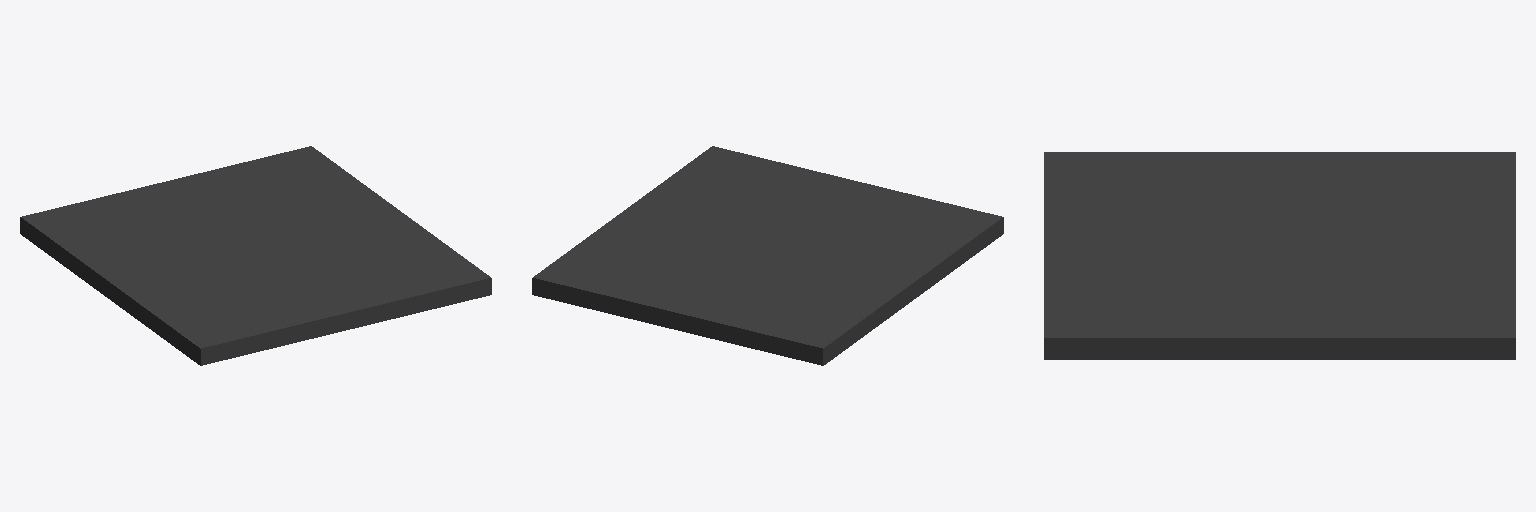
robot.urdf — lwr:
<?xml version="1.0" ?>
<!-- =================================================================================== -->
<!-- |    This document was autogenerated by xacro from kuka_lwr_arm.urdf.xml          | -->
<!-- |    EDITING THIS FILE BY HAND IS NOT RECOMMENDED                                 | -->
<!-- =================================================================================== -->
<robot name="lwr" xmlns:controller="http://playerstage.sourceforge.net/gazebo/xmlschema/#controller" xmlns:interface="http://playerstage.sourceforge.net/gazebo/xmlschema/#interface" xmlns:sensor="http://playerstage.sourceforge.net/gazebo/xmlschema/#sensor" xmlns:xacro="http://playerstage.sourceforge.net/gazebo/xmlschema/#interface">
  <gazebo>
    <plugin filename="librtt_gazebo_plugin.so" name="rtt_gazebo">
      <opsScript>
        import(&quot;rtt_ros&quot;);
        ros.import(&quot;rtt_roscomm&quot;);
        ros.import(&quot;rtt_rosparam&quot;);
        ros.import(&quot;rtt_sensor_msgs&quot;);
        ros.import(&quot;lwr_simulation&quot;);
        ros.import(&quot;oro_joint_state_publisher&quot;);
        
        loadComponent(&quot;FRI&quot;,&quot;LWRController&quot;);
        loadComponent(&quot;joints&quot;,&quot;JointStatePublisher&quot;);
        
        loadService(&quot;FRI&quot;,&quot;rosparam&quot;);
        loadService(&quot;joints&quot;,&quot;rosparam&quot;);
        
        setActivity(&quot;FRI&quot;, 0.0, 5, ORO_SCHED_RT);
        setActivity(&quot;joints&quot;, 0.02, 5, ORO_SCHED_RT);
        
        connect(&quot;FRI.JointPosition&quot;,&quot;joints.msrJntPos&quot;, ConnPolicy());
        stream(&quot;joints.joints_state&quot;, rostopic.connection(&quot;/joints_state&quot;));
        
        joints.rosparam.refreshProperties();
        joints.configure();
        joints.start();
      </opsScript>
      <component>FRI</component>
    </plugin>
  </gazebo>
  <material name="DarkGrey">
    <color rgba="0.3 0.3 0.3 1.0"/>
  </material>
  <material name="Red">
    <color rgba="0.3 0.3 0.3 1.0"/>
  </material>
  <material name="Black">
    <color rgba="0 0 0 1.0"/>
  </material>
  <material name="Orange">
    <color rgba="1.0 0.487 0 1.0"/>
  </material>
  <material name="Silver">
    <color rgba="1.0 1.0 1.0 1.0"/>
  </material>
  <material name="Grey">
    <color rgba="0.7 0.7 0.7 1.0"/>
  </material>
  <material name="Blue">
    <color rgba="0.0 0.0 0.8 1.0"/>
  </material>
  <material name="HandGray">
    <color rgba="0.953 0.996 0.694 1.0"/>
  </material>
  <material name="SickBlue">
    <color rgba="0.3058 0.5921 0.7294 1.0"/>
  </material>
  <link name="world_frame">
    <visual>
      <origin rpy="0 0 0" xyz="0 0 -0.02"/>
      <geometry>
        <box size="0.7 0.75 0.04"/>
      </geometry>
      <material name="DarkGrey"/>
    </visual>
    <collision>
      <origin rpy="0 0 0" xyz="0 0 -0.02"/>
      <geometry>
        <box size="0.7 0.75 0.04"/>
      </geometry>
    </collision>
  </link>
  <joint name="world_frame_lwr_arm_base_joint" type="fixed">
    <origin rpy="0 0 0" xyz="0 0 0"/>
    <parent link="world_frame"/>
    <child link="base"/>
  </joint>
  <link name="base">
    <inertial>
      <mass value="2.0"/>
      <origin xyz="0 0 0.055"/>
      <inertia ixx="0.00381666666667" ixy="0" ixz="0" iyy="0.0036" iyz="0" izz="0.00381666666667"/>
    </inertial>
    <visual>
      <origin rpy="0 0 3.14159265359" xyz="0 0 0"/>
      <geometry>
        <mesh filename="package://lwr_defs/meshes/lwr/base.stl"/>
      </geometry>
      <material name="Blue"/>
    </visual>
    <collision>
      <origin rpy="0 0 3.14159265359" xyz="0 0 0.055"/>
      <geometry>
        <mesh filename="package://lwr_defs/meshes/lwr/convex/arm_base_convex.stl"/>
      </geometry>
    </collision>
  </link>
  <gazebo reference="calib_lwr_arm_base_link">
    <turnGravityOff>true</turnGravityOff>
  </gazebo>
  <joint name="lwr_arm_0_joint" type="revolute">
    <origin rpy="0 0 3.14159265359" xyz="0 0 0.11"/>
    <axis xyz="0 0 1"/>
    <limit effort="204" lower="-2.96705972839" upper="2.96705972839" velocity="1.91986217719"/>
    <safety_controller k_position="30" k_velocity="30" soft_lower_limit="-2.93215314335" soft_upper_limit="2.93215314335"/>
    <dynamics damping="1.0"/>
    <parent link="base"/>
    <child link="lwr_arm_1_link"/>
  </joint>
  <link name="lwr_arm_1_link">
    <inertial>
      <mass value="2.0"/>
      <origin rpy="0 0 0" xyz="0 -0.06 0.130"/>
      <inertia ixx="0.0136666666667" ixy="0" ixz="0" iyy="0.003" iyz="0" izz="0.0118666666667"/>
    </inertial>
    <visual>
      <origin rpy="0 0 0" xyz="0 0 -0.008"/>
      <geometry>
        <mesh filename="package://lwr_defs/meshes/lwr/link_1.stl"/>
      </geometry>
      <material name="Blue"/>
    </visual>
    <collision>
      <origin rpy="0 0 0" xyz="0 0 0"/>
      <geometry>
        <mesh filename="package://lwr_defs/meshes/lwr/convex/arm_segment_a_convex.stl"/>
      </geometry>
    </collision>
  </link>
  <gazebo reference="lwr_arm_1_link">
    <gravity>0</gravity>
  </gazebo>
  <transmission name="lwr_arm_0_trans" type="SimpleTransmission">
    <actuator name="lwr_arm_0_motor"/>
    <joint name="lwr_arm_0_joint"/>
    <mechanicalReduction>1.0</mechanicalReduction>
  </transmission>
  <!-- Third segment of the arm. Joint along y-axis -->
  <joint name="lwr_arm_1_joint" type="revolute">
    <origin rpy="0 0 0" xyz="0 0 0.2"/>
    <axis xyz="0 1 0"/>
    <limit effort="306" lower="-2.09439510239" upper="2.09439510239" velocity="1.91986217719"/>
    <safety_controller k_position="30" k_velocity="30" soft_lower_limit="-2.05948851735" soft_upper_limit="2.05948851735"/>
    <dynamics damping="1.0" friction="10"/>
    <parent link="lwr_arm_1_link"/>
    <child link="lwr_arm_2_link"/>
  </joint>
  <link name="lwr_arm_2_link">
    <inertial>
      <mass value="2.0"/>
      <origin rpy="0 0 0" xyz="0 0.06 0.07"/>
      <inertia ixx="0.0136666666667" ixy="0" ixz="0" iyy="0.003" iyz="0" izz="0.0118666666667"/>
    </inertial>
    <visual>
      <origin rpy="0 0 0" xyz="0 0 0.0"/>
      <geometry>
        <mesh filename="package://lwr_defs/meshes/lwr/link_2.stl"/>
      </geometry>
      <material name="Blue"/>
    </visual>
    <collision>
      <origin rpy="3.14159265359 0 0" xyz="0 0 0.2"/>
      <geometry>
        <mesh filename="package://lwr_defs/meshes/lwr/convex/arm_segment_b_convex.stl"/>
      </geometry>
    </collision>
  </link>
  <gazebo reference="lwr_arm_2_link">
    <gravity>0</gravity>
  </gazebo>
  <transmission name="lwr_arm_1_trans" type="SimpleTransmission">
    <actuator name="lwr_arm_1_motor"/>
    <joint name="lwr_arm_1_joint"/>
    <mechanicalReduction>1.0</mechanicalReduction>
  </transmission>
  <joint name="lwr_arm_2_joint" type="revolute">
    <origin rpy="0 0 0" xyz="0 0 0.20"/>
    <axis xyz="0 0 1"/>
    <limit effort="204" lower="-2.96705972839" upper="2.96705972839" velocity="2.26892802759"/>
    <safety_controller k_position="30" k_velocity="30" soft_lower_limit="-2.93215314335" soft_upper_limit="2.93215314335"/>
    <dynamics damping="1.0"/>
    <parent link="lwr_arm_2_link"/>
    <child link="lwr_arm_3_link"/>
  </joint>
  <link name="lwr_arm_3_link">
    <inertial>
      <mass value="2.0"/>
      <origin rpy="0 0 0" xyz="0 0.06 0.130"/>
      <inertia ixx="0.0136666666667" ixy="0" ixz="0" iyy="0.003" iyz="0" izz="0.0118666666667"/>
    </inertial>
    <visual>
      <origin rpy="0 0 0" xyz="0 0 -0.008"/>
      <geometry>
        <mesh filename="package://lwr_defs/meshes/lwr/link_3.stl"/>
      </geometry>
      <material name="Blue"/>
    </visual>
    <collision>
      <origin rpy="0 0 3.14159265359" xyz="0 0 0"/>
      <geometry>
        <mesh filename="package://lwr_defs/meshes/lwr/convex/arm_segment_a_convex.stl"/>
      </geometry>
    </collision>
  </link>
  <gazebo reference="lwr_arm_3_link">
    <turnGravityOff>true</turnGravityOff>
  </gazebo>
  <transmission name="lwr_arm_2_trans" type="SimpleTransmission">
    <actuator name="lwr_arm_2_motor"/>
    <joint name="lwr_arm_2_joint"/>
    <mechanicalReduction>1.0</mechanicalReduction>
  </transmission>
  <!-- fifth element of the arm. x-axis -->
  <joint name="lwr_arm_3_joint" type="revolute">
    <origin rpy="0 0 0" xyz="0 0 0.20"/>
    <axis xyz="0 -1 0"/>
    <limit effort="306" lower="-2.09439510239" upper="2.09439510239" velocity="2.26892802759"/>
    <safety_controller k_position="30" k_velocity="30" soft_lower_limit="-2.05948851735" soft_upper_limit="2.05948851735"/>
    <dynamics damping="1.0"/>
    <parent link="lwr_arm_3_link"/>
    <child link="lwr_arm_4_link"/>
  </joint>
  <link name="lwr_arm_4_link">
    <inertial>
      <mass value="2.0"/>
      <origin rpy="0 0 0" xyz="0 -0.06 0.07"/>
      <inertia ixx="0.0136666666667" ixy="0" ixz="0" iyy="0.003" iyz="0" izz="0.0118666666667"/>
    </inertial>
    <visual>
      <origin rpy="0 0 0" xyz="0 0 0.0"/>
      <geometry>
        <mesh filename="package://lwr_defs/meshes/lwr/link_4.stl"/>
      </geometry>
      <material name="Blue"/>
    </visual>
    <collision>
      <origin rpy="0 3.14159265359 0" xyz="0 0 0.2"/>
      <geometry>
        <mesh filename="package://lwr_defs/meshes/lwr/convex/arm_segment_b_convex.stl"/>
      </geometry>
    </collision>
  </link>
  <gazebo reference="lwr_arm_4_link">
    <turnGravityOff>true</turnGravityOff>
  </gazebo>
  <transmission name="lwr_arm_3_trans" type="SimpleTransmission">
    <actuator name="lwr_arm_3_motor"/>
    <joint name="lwr_arm_3_joint"/>
    <mechanicalReduction>1.0</mechanicalReduction>
  </transmission>
  <joint name="lwr_arm_4_joint" type="revolute">
    <origin rpy="0 0 0" xyz="0 0 0.20"/>
    <axis xyz="0 0 1"/>
    <limit effort="204" lower="-2.96705972839" upper="2.96705972839" velocity="2.26892802759"/>
    <safety_controller k_position="30" k_velocity="30" soft_lower_limit="-2.93215314335" soft_upper_limit="2.93215314335"/>
    <dynamics damping="1.0"/>
    <parent link="lwr_arm_4_link"/>
    <child link="lwr_arm_5_link"/>
  </joint>
  <link name="lwr_arm_5_link">
    <inertial>
      <mass value="2.0"/>
      <origin rpy="0 0 0" xyz="0 0 0.124"/>
      <inertia ixx="0.0126506666667" ixy="0" ixz="0" iyy="0.003" iyz="0" izz="0.0108506666667"/>
    </inertial>
    <visual>
      <origin rpy="0 0 0" xyz="0 0 -0.008"/>
      <geometry name="lwr_arm_5_geom">
        <mesh filename="package://lwr_defs/meshes/lwr/link_5.stl"/>
      </geometry>
      <material name="Blue"/>
    </visual>
    <collision>
      <origin rpy="0 0 0" xyz="0 0 0"/>
      <geometry>
        <mesh filename="package://lwr_defs/meshes/lwr/convex/arm_segment_last_convex.stl"/>
      </geometry>
    </collision>
  </link>
  <gazebo reference="lwr_arm_5_link">
    <turnGravityOff>true</turnGravityOff>
  </gazebo>
  <transmission name="lwr_arm_4_trans" type="SimpleTransmission">
    <actuator name="lwr_arm_4_motor"/>
    <joint name="lwr_arm_4_joint"/>
    <mechanicalReduction>1.0</mechanicalReduction>
  </transmission>
  <joint name="lwr_arm_5_joint" type="revolute">
    <origin rpy="0 0 0" xyz="0 0 0.19"/>
    <axis xyz="0 1 0"/>
    <limit effort="306" lower="-2.09439510239" upper="2.09439510239" velocity="3.14159265359"/>
    <safety_controller k_position="30" k_velocity="30" soft_lower_limit="-2.05948851735" soft_upper_limit="2.05948851735"/>
    <dynamics damping="1.0"/>
    <parent link="lwr_arm_5_link"/>
    <child link="lwr_arm_6_link"/>
  </joint>
  <link name="lwr_arm_6_link">
    <inertial>
      <mass value="0.2"/>
      <origin rpy="0 0 0" xyz="0 0 0.0625"/>
      <inertia ixx="0.000520833333333" ixy="0" ixz="0" iyy="0.000520833333333" iyz="0" izz="0.000520833333333"/>
    </inertial>
    <visual>
      <origin rpy="0 0 0" xyz="0 0 0"/>
      <geometry>
        <mesh filename="package://lwr_defs/meshes/lwr/link_6.stl"/>
      </geometry>
      <material name="Grey"/>
    </visual>
    <collision>
      <origin rpy="0 0 0" xyz="0 0 0"/>
      <geometry>
        <mesh filename="package://lwr_defs/meshes/lwr/convex/arm_wrist_convex.stl"/>
      </geometry>
    </collision>
  </link>
  <gazebo reference="lwr_arm_6_link">
    <turnGravityOff>true</turnGravityOff>
  </gazebo>
  <transmission name="lwr_arm_5_trans" type="SimpleTransmission">
    <actuator name="lwr_arm_5_motor"/>
    <joint name="lwr_arm_5_joint"/>
    <mechanicalReduction>1.0</mechanicalReduction>
  </transmission>
  <joint name="lwr_arm_6_joint" type="revolute">
    <origin rpy="0 0 3.14159265359" xyz="0 0 0.078"/>
    <axis xyz="0 0 1"/>
    <limit effort="204" lower="-2.96705972839" upper="2.96705972839" velocity="3.14159265359"/>
    <safety_controller k_position="30" k_velocity="30" soft_lower_limit="-2.93215314335" soft_upper_limit="2.93215314335"/>
    <dynamics damping="1.0"/>
    <parent link="lwr_arm_6_link"/>
    <child link="lwr_arm_7_link"/>
  </joint>
  <link name="lwr_arm_7_link">
    <inertial>
      <mass value="0.2"/>
      <origin xyz="0 0 0"/>
      <inertia ixx="0.0333333333333" ixy="0" ixz="0" iyy="0.0333333333333" iyz="0" izz="0.0333333333333"/>
    </inertial>
    <visual>
      <origin rpy="0 0 0" xyz="0 0 0"/>
      <geometry>
        <mesh filename="package://lwr_defs/meshes/lwr/link_7.stl"/>
      </geometry>
      <material name="Grey"/>
    </visual>
    <collision>
      <origin rpy="0 0 -0.785398163397" xyz="0 0 0"/>
      <geometry>
        <cylinder length="0.05" radius="0.04"/>
      </geometry>
    </collision>
  </link>
  <gazebo reference="lwr_arm_7_link">
    <turnGravityOff>true</turnGravityOff>
  </gazebo>
  <transmission name="lwr_arm_6_trans" type="SimpleTransmission">
    <actuator name="lwr_arm_6_motor"/>
    <joint name="lwr_arm_6_joint"/>
    <mechanicalReduction>1.0</mechanicalReduction>
  </transmission>
</robot>

--- Render facts (derived) ---
The picture shows the robot from 3 angles, left to right: view 1: azimuth 30°, elevation 25°; view 2: azimuth 150°, elevation 25°; view 3: azimuth 270°, elevation 25°; orthographic projection.
Model lwr with 9 links and 8 joints (7 revolute, 1 fixed), rooted at world_frame, posed every joint at zero.
Visible links, largest first — view 1: world_frame; view 2: world_frame; view 3: world_frame.
Boxes of the visible links, bbox=[...] form: world_frame: bbox=[20, 146, 491, 365]; world_frame: bbox=[532, 146, 1003, 365]; world_frame: bbox=[1044, 152, 1515, 359].
Size in the robot's own frame: 0.7 by 0.75 by 0.04 metres.
0 mesh visuals loaded from 8 distinct referenced files (none loaded); not drawn: 8 (reference not matched to a file when rendering).